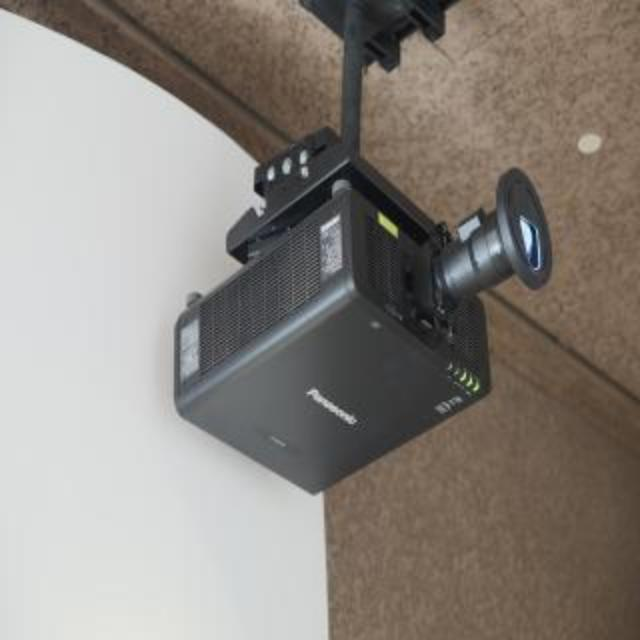Projector: (172, 0, 552, 494)
